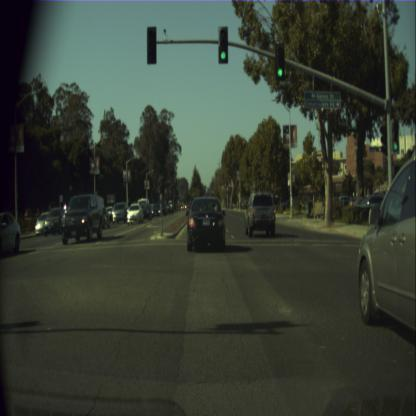Green: (218, 26, 228, 62), (276, 43, 284, 79), (391, 122, 399, 152)
off: (147, 27, 156, 63)
